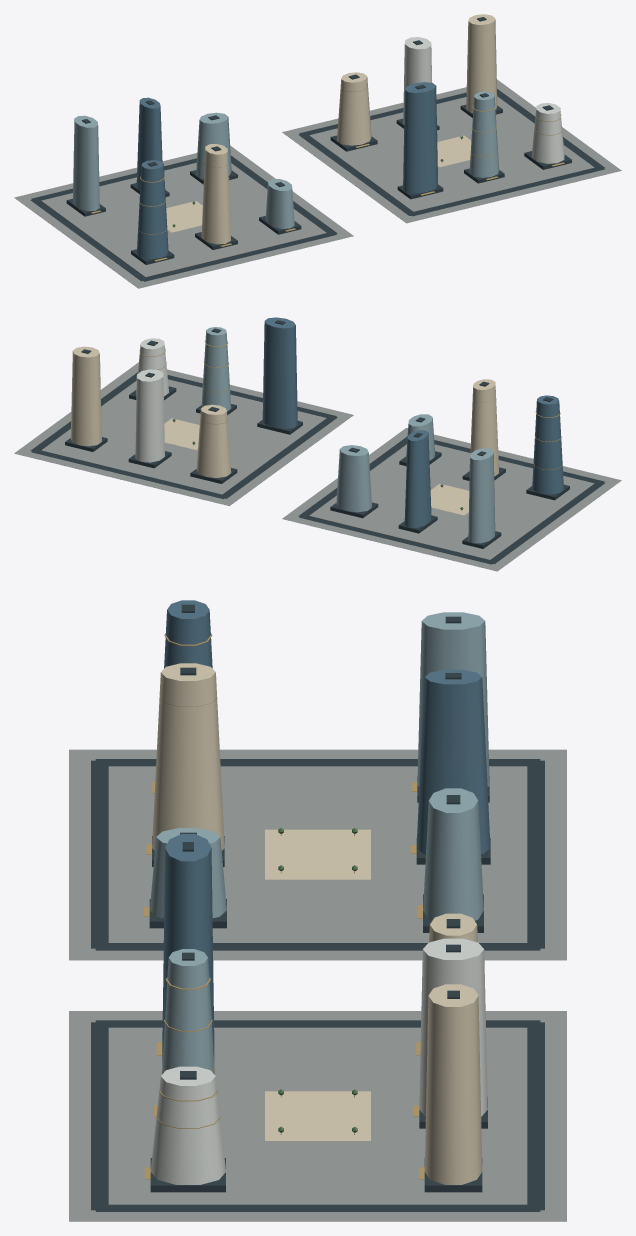
Rendered from GC-TILE-07-15.glb.
3 views of the same model, one above another, from view 1: azimuth 30°, elevation 25°; view 2: azimuth 150°, elevation 25°; view 3: azimuth 270°, elevation 25° (orthographic). The views are drawn at different scales.
Visible parts, largest first — view 1: GC-TILE-07-15-paving, GC-TILE-07-15-ivory, GC-TILE-07-15-dark, GC-TILE-07-15-blue, GC-TILE-07-15-glass, GC-TILE-07-15-white, GC-TILE-07-15-gold; view 2: GC-TILE-07-15-paving, GC-TILE-07-15-dark, GC-TILE-07-15-ivory, GC-TILE-07-15-blue, GC-TILE-07-15-glass, GC-TILE-07-15-white; view 3: GC-TILE-07-15-paving, GC-TILE-07-15-ivory, GC-TILE-07-15-dark, GC-TILE-07-15-glass, GC-TILE-07-15-blue, GC-TILE-07-15-white, GC-TILE-07-15-gold.
Boxes of the visible parts, bbox=[...] form: GC-TILE-07-15-paving: bbox=[14, 79, 621, 288]; GC-TILE-07-15-ivory: bbox=[166, 14, 497, 244]; GC-TILE-07-15-dark: bbox=[30, 17, 605, 281]; GC-TILE-07-15-blue: bbox=[136, 82, 437, 259]; GC-TILE-07-15-glass: bbox=[73, 91, 499, 228]; GC-TILE-07-15-white: bbox=[403, 37, 564, 163]; GC-TILE-07-15-gold: bbox=[91, 86, 564, 261]; GC-TILE-07-15-paving: bbox=[14, 362, 621, 571]; GC-TILE-07-15-dark: bbox=[30, 320, 605, 564]; GC-TILE-07-15-ivory: bbox=[70, 346, 498, 515]; GC-TILE-07-15-blue: bbox=[262, 317, 563, 527]; GC-TILE-07-15-glass: bbox=[201, 327, 495, 543]; GC-TILE-07-15-white: bbox=[135, 338, 168, 462]; GC-TILE-07-15-paving: bbox=[69, 749, 566, 1221]; GC-TILE-07-15-ivory: bbox=[152, 663, 482, 1184]; GC-TILE-07-15-dark: bbox=[91, 604, 544, 1211]; GC-TILE-07-15-glass: bbox=[150, 612, 489, 1074]; GC-TILE-07-15-blue: bbox=[162, 600, 490, 1048]; GC-TILE-07-15-white: bbox=[150, 938, 487, 1184]; GC-TILE-07-15-gold: bbox=[144, 633, 428, 1179].
Bounding box in the file's own units: 758 × 156 × 338.
